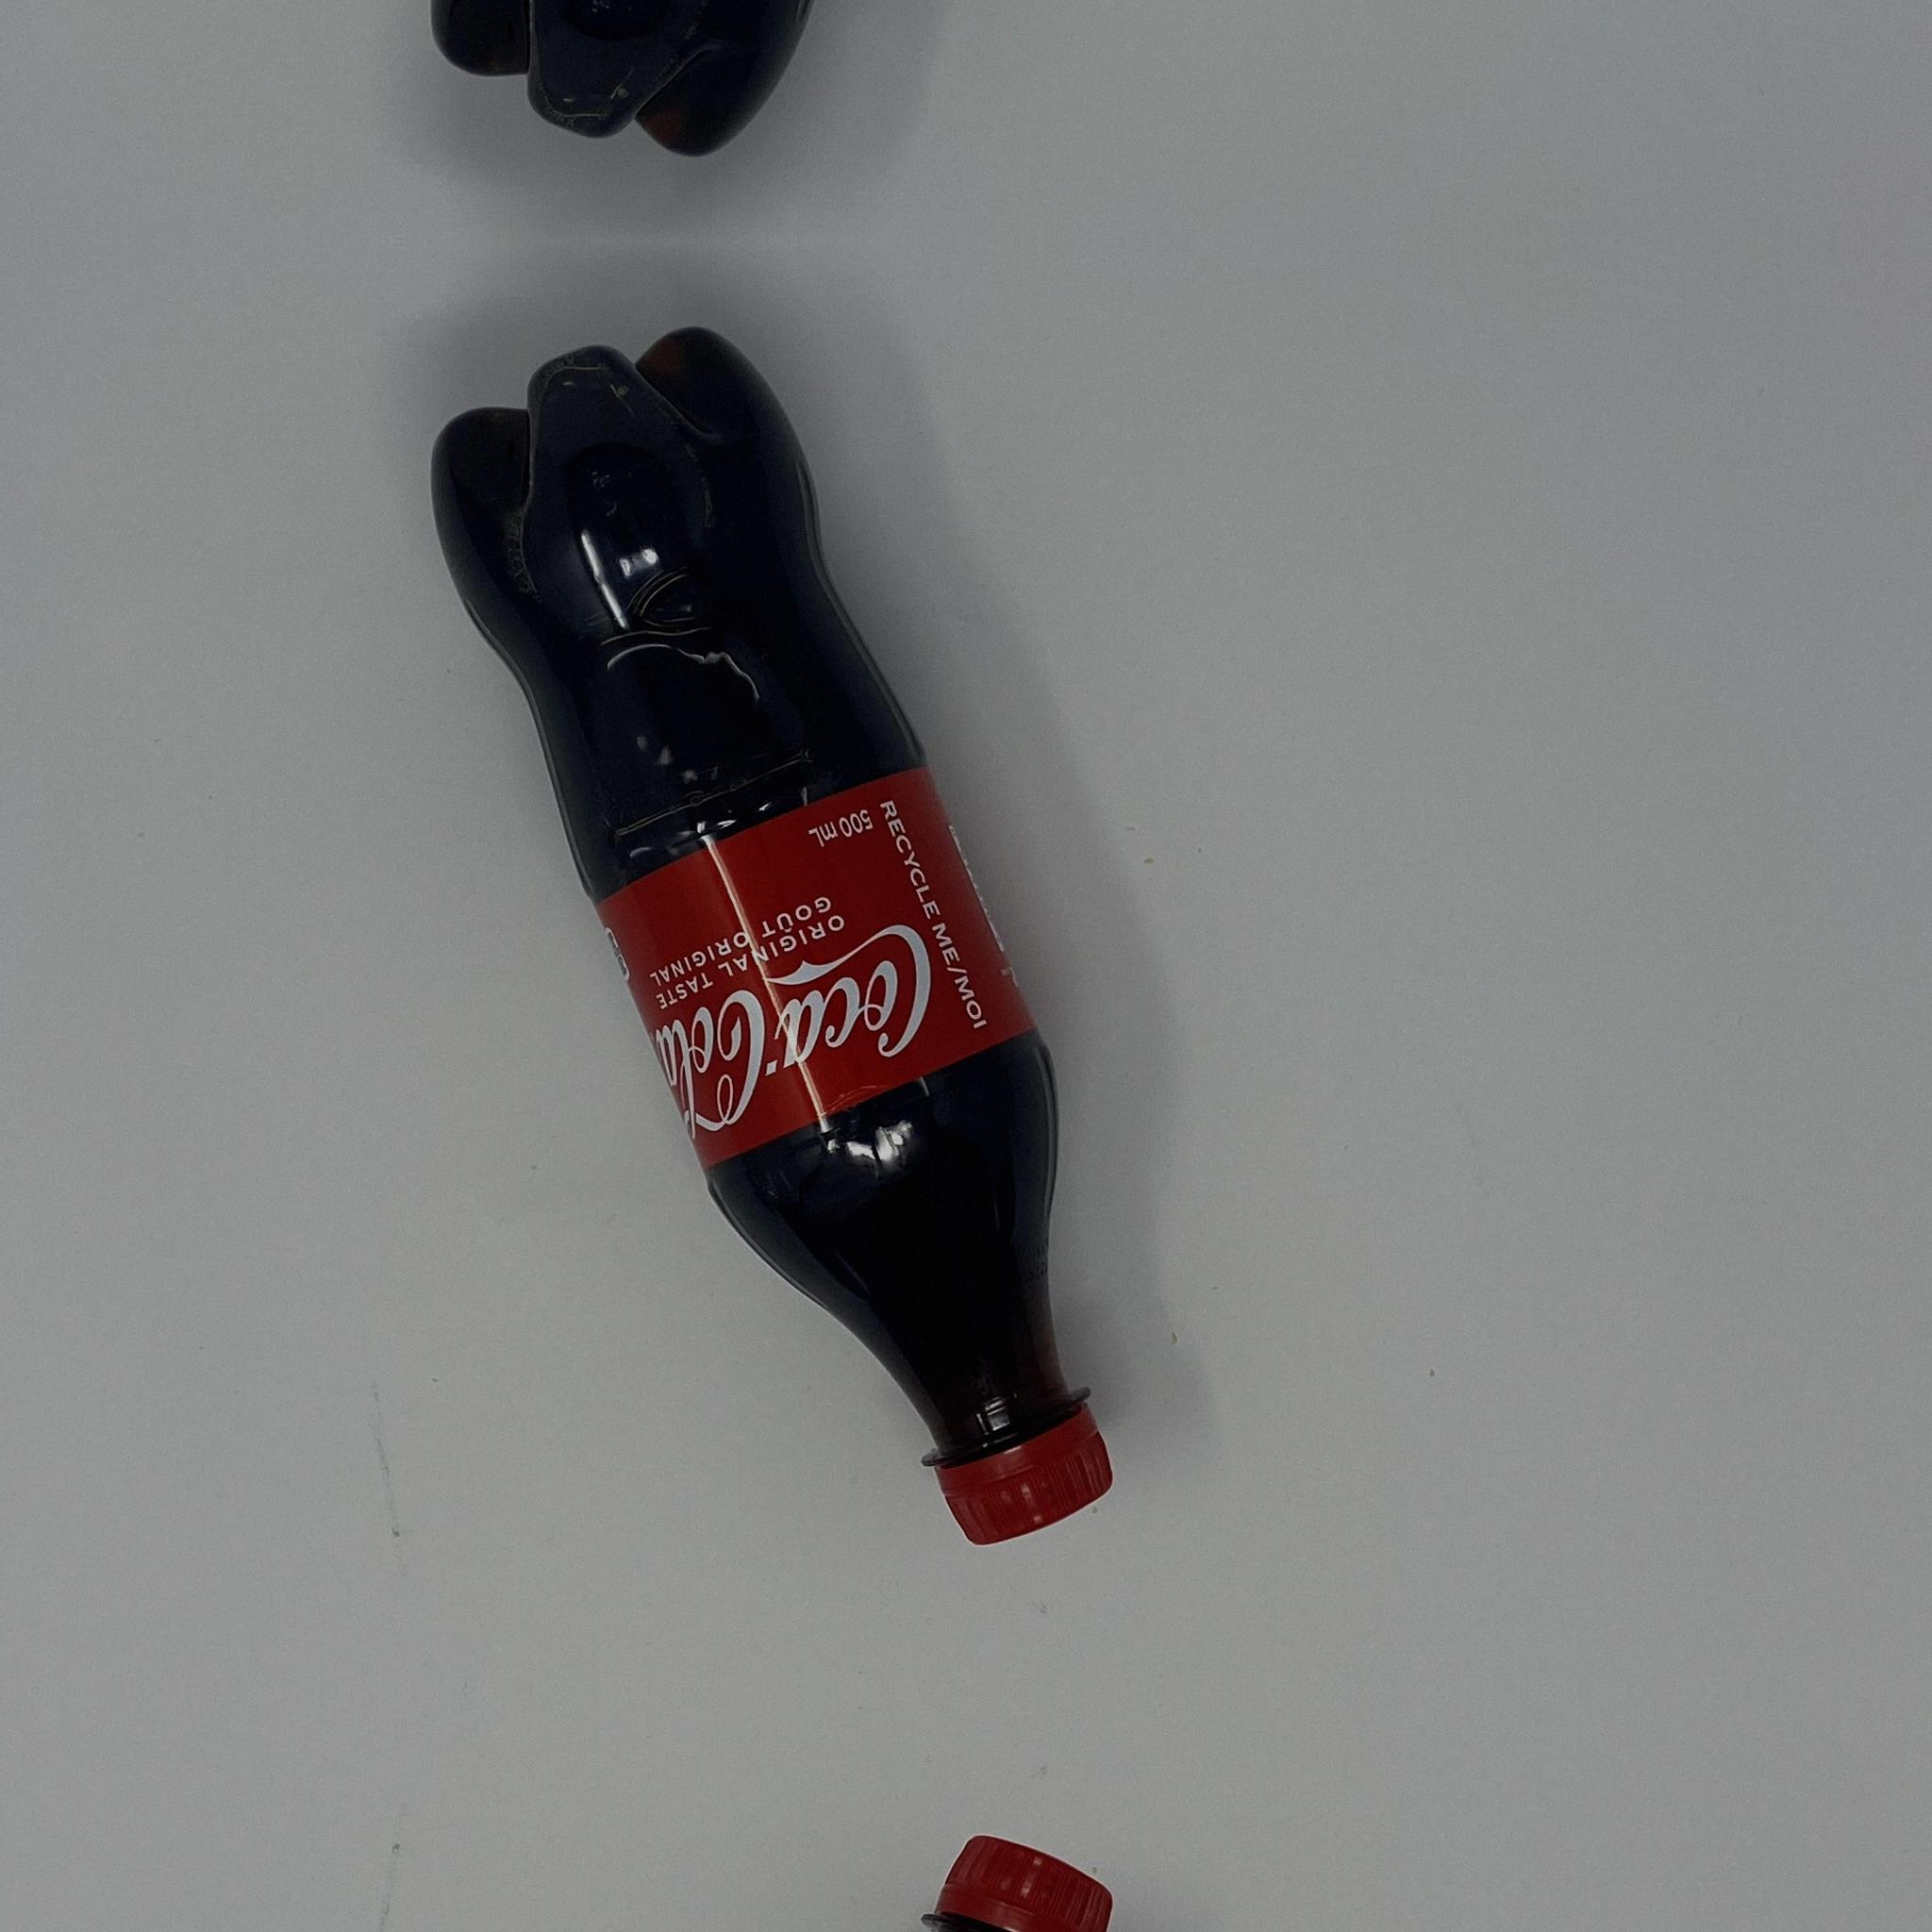PET: (428, 322, 1115, 1545)
cocacola: (428, 322, 1115, 1545)
plastic: (428, 322, 1115, 1545)
soft-drink: (428, 322, 1115, 1545)
